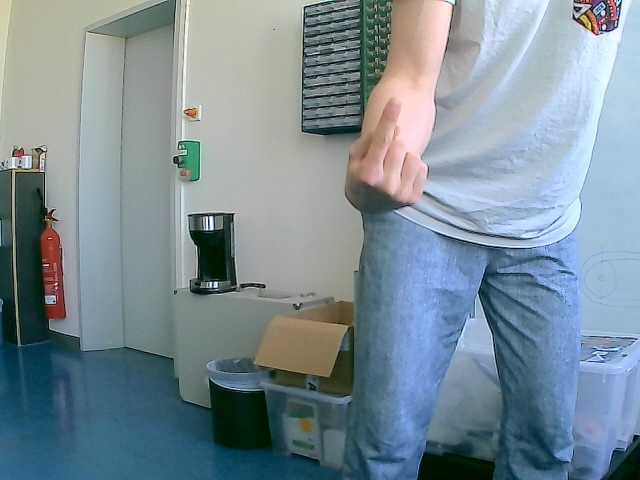up: (344, 96, 437, 214)
